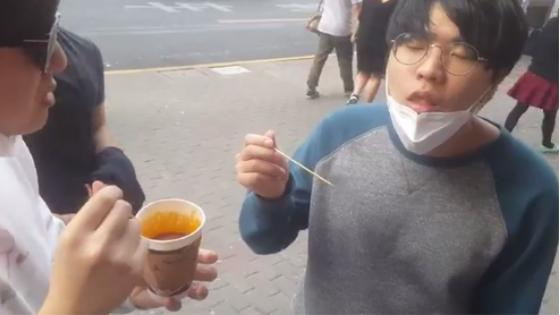WRONG: (384, 32, 498, 150), (1, 30, 63, 160)
